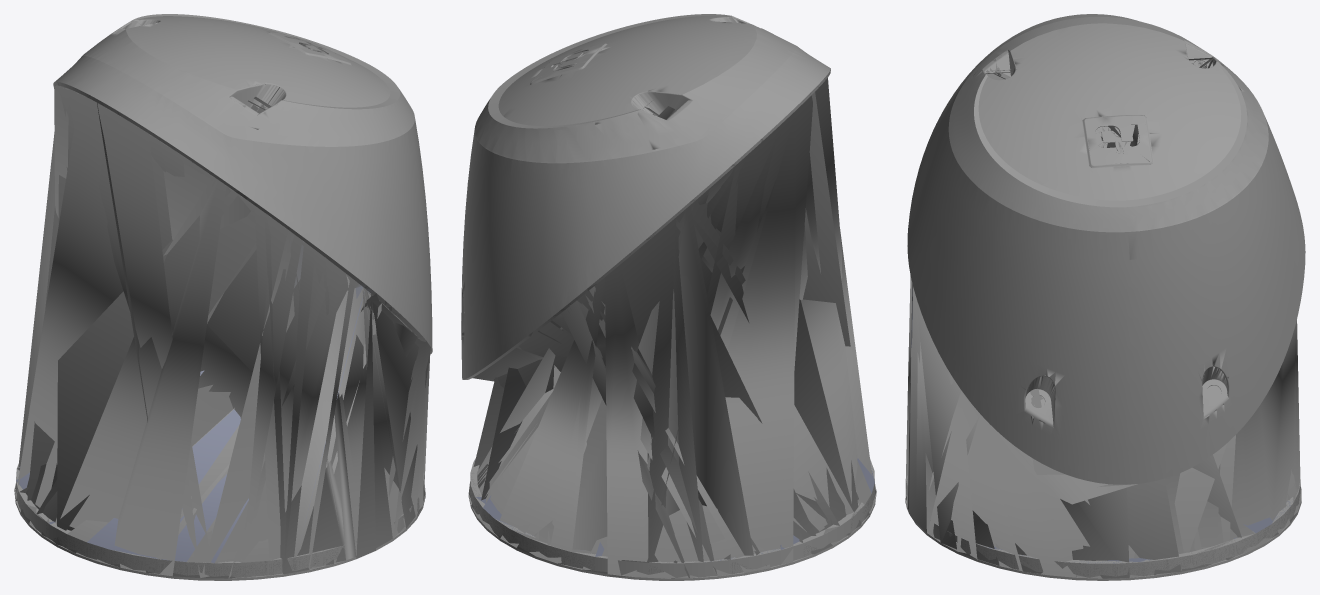
Rendered from arm1_link.dae.
The picture shows the model from 3 angles, left to right: view 1: azimuth 30°, elevation 25°; view 2: azimuth 150°, elevation 25°; view 3: azimuth 270°, elevation 25°; orthographic projection. The views are drawn at different scales.
Visible parts, largest first — view 1: node2, node0, node1; view 2: node2, node0, node1; view 3: node0, node2.
Part boxes in pixels (x1,y1,x2,y2): node2: (14,20,431,578); node0: (14,14,432,580); node1: (16,292,364,563); node2: (468,22,876,580); node0: (461,14,876,580); node1: (474,458,874,562); node0: (905,14,1305,580); node2: (905,43,1301,579).
Size of the model in its own units: 0.155 by 0.1862 by 0.1532.
